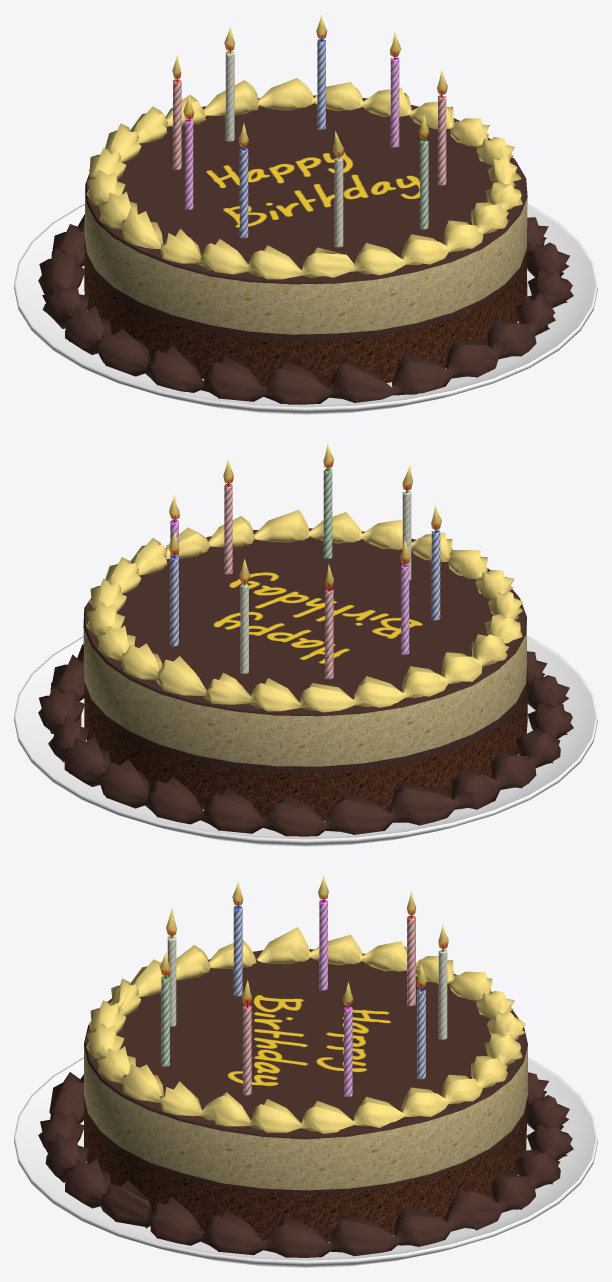
The model's file is cake.glb.
The picture shows the model from 3 angles, top to bottom: view 1: azimuth 30°, elevation 25°; view 2: azimuth 150°, elevation 25°; view 3: azimuth 270°, elevation 25°; orthographic projection.
Visible parts, largest first — view 1: Object_8, Object_3, Object_5, Object_2, Object_9, Object_6, Object_7, Object_4, Object_11; view 2: Object_8, Object_3, Object_5, Object_2, Object_6, Object_9, Object_7, Object_4, Object_11; view 3: Object_8, Object_2, Object_3, Object_5, Object_9, Object_6, Object_7, Object_4, Object_11.
Part boxes in pixels (box(x1,y1,x2,y2)): Object_8: box(84, 95, 527, 341); Object_3: box(38, 214, 573, 413); Object_5: box(86, 78, 522, 279); Object_2: box(84, 189, 527, 334); Object_9: box(84, 244, 527, 388); Object_6: box(14, 204, 597, 414); Object_7: box(173, 39, 446, 247); Object_4: box(206, 151, 419, 227); Object_11: box(172, 15, 447, 156); Object_8: box(83, 528, 527, 773); Object_3: box(38, 644, 573, 836); Object_5: box(86, 510, 522, 712); Object_2: box(83, 620, 526, 766); Object_6: box(14, 636, 597, 846); Object_9: box(84, 674, 527, 821); Object_7: box(170, 468, 440, 679); Object_4: box(213, 572, 422, 663); Object_11: box(169, 444, 441, 588); Object_8: box(84, 949, 527, 1193); Object_2: box(84, 1045, 527, 1190); Object_3: box(38, 1072, 573, 1257); Object_5: box(86, 927, 525, 1133); Object_9: box(84, 1101, 527, 1241); Object_6: box(14, 1057, 597, 1267); Object_7: box(161, 900, 447, 1097); Object_4: box(227, 995, 390, 1085); Object_11: box(159, 875, 448, 1006).
Bounding box in the file's own units: 0.5046 × 0.2233 × 0.5046.
Materials: 9 (5 with a texture image).
